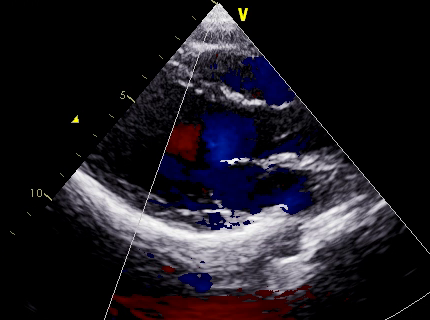MR: (181, 156, 243, 226)
